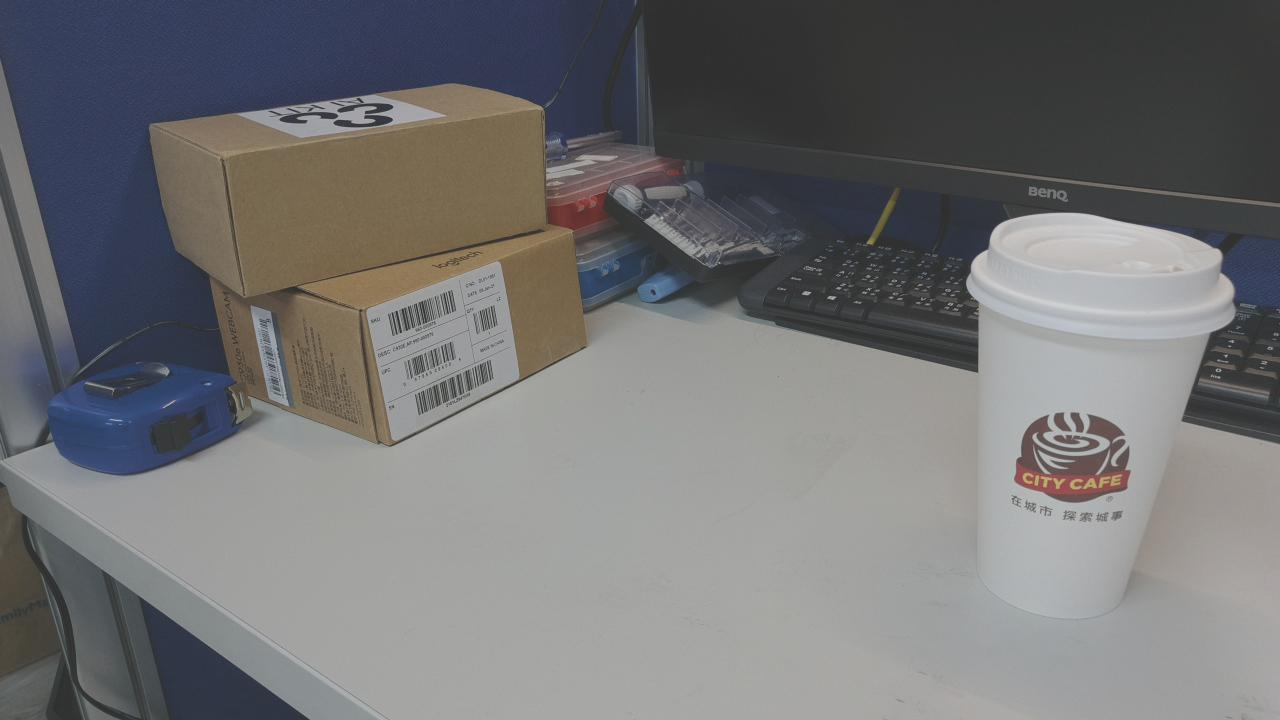columnar: (58, 79, 276, 541)
